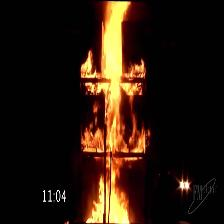fire: (97, 3, 125, 223)
